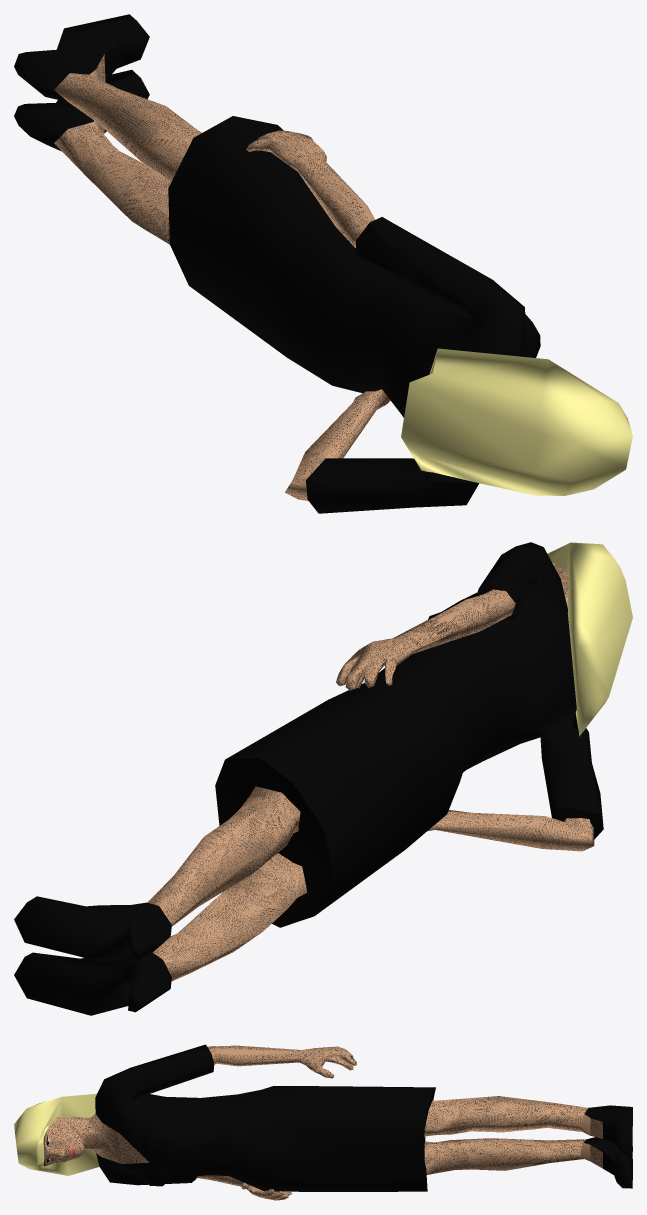
File: woman_2.dae
3 renders of one model, top to bottom at view 1: azimuth 30°, elevation 25°; view 2: azimuth 150°, elevation 25°; view 3: azimuth 270°, elevation 25°, orthographic. The views are drawn at different scales.
Visible parts, largest first — view 1: coords_ME_ID19_MA_Color_009, coords_ME_ID47_MA_Shape_12, coords_ME_ID61_MA_Shape_006, coords_ME_ID55_MA_Shape_006, coords_ME_ID107_MA_Color_009, coords_ME_ID13_MA_Shape_006, coords_ME_ID41_MA_Shape_006, coords_ME_ID87_MA_Color_009, coords_ME_ID61_MA_Color_009, coords_ME_ID55_MA_Color_009, coords_ME_ID185_MA_Color_009, coords_ME_ID13_MA_Color_009 (+3 smaller); view 2: coords_ME_ID19_MA_Color_009, coords_ME_ID47_MA_Shape_12, coords_ME_ID61_MA_Shape_006, coords_ME_ID55_MA_Shape_006, coords_ME_ID87_MA_Color_009, coords_ME_ID107_MA_Color_009, coords_ME_ID143_MA_Color_009, coords_ME_ID13_MA_Shape_006, coords_ME_ID41_MA_Shape_006, coords_ME_ID61_MA_Color_009, coords_ME_ID55_MA_Color_009, coords_ME_ID13_MA_Color_009 (+3 smaller); view 3: coords_ME_ID19_MA_Color_009, coords_ME_ID61_MA_Shape_006, coords_ME_ID55_MA_Shape_006, coords_ME_ID47_MA_Shape_12, coords_ME_ID3_MA_Shape_006, coords_ME_ID13_MA_Shape_006, coords_ME_ID61_MA_Color_009, coords_ME_ID55_MA_Color_009, coords_ME_ID107_MA_Color_009, coords_ME_ID87_MA_Color_009, coords_ME_ID3_MA_Color_009, coords_ME_ID41_MA_Shape_006 (+2 smaller).
Part boxes in pixels (x1,y1,x2,y2): coords_ME_ID19_MA_Color_009: (168, 116, 540, 513); coords_ME_ID47_MA_Shape_12: (401, 348, 632, 495); coords_ME_ID61_MA_Shape_006: (54, 73, 201, 180); coords_ME_ID55_MA_Shape_006: (54, 122, 171, 244); coords_ME_ID107_MA_Color_009: (14, 14, 149, 101); coords_ME_ID13_MA_Shape_006: (246, 130, 375, 247); coords_ME_ID41_MA_Shape_006: (285, 389, 390, 500); coords_ME_ID87_MA_Color_009: (14, 69, 149, 151); coords_ME_ID61_MA_Color_009: (55, 74, 199, 179); coords_ME_ID55_MA_Color_009: (56, 124, 171, 240); coords_ME_ID185_MA_Color_009: (356, 222, 420, 282); coords_ME_ID13_MA_Color_009: (248, 131, 371, 245); coords_ME_ID19_MA_Color_009: (225, 542, 600, 915); coords_ME_ID47_MA_Shape_12: (547, 542, 632, 736); coords_ME_ID61_MA_Shape_006: (147, 786, 300, 926); coords_ME_ID55_MA_Shape_006: (153, 853, 306, 981); coords_ME_ID87_MA_Color_009: (14, 952, 171, 1015); coords_ME_ID107_MA_Color_009: (14, 896, 171, 961); coords_ME_ID143_MA_Color_009: (215, 757, 334, 927); coords_ME_ID13_MA_Shape_006: (336, 589, 515, 690); coords_ME_ID41_MA_Shape_006: (427, 810, 594, 851); coords_ME_ID61_MA_Color_009: (151, 787, 298, 925); coords_ME_ID55_MA_Color_009: (153, 853, 306, 980); coords_ME_ID13_MA_Color_009: (336, 590, 514, 688); coords_ME_ID19_MA_Color_009: (95, 1044, 435, 1191); coords_ME_ID61_MA_Shape_006: (424, 1096, 588, 1136); coords_ME_ID55_MA_Shape_006: (424, 1138, 586, 1174); coords_ME_ID47_MA_Shape_12: (14, 1093, 99, 1175); coords_ME_ID3_MA_Shape_006: (44, 1114, 149, 1165); coords_ME_ID13_MA_Shape_006: (208, 1045, 356, 1078); coords_ME_ID61_MA_Color_009: (425, 1096, 586, 1135); coords_ME_ID55_MA_Color_009: (424, 1138, 585, 1174); coords_ME_ID107_MA_Color_009: (584, 1105, 632, 1156); coords_ME_ID87_MA_Color_009: (583, 1137, 632, 1188); coords_ME_ID3_MA_Color_009: (44, 1117, 142, 1164); coords_ME_ID41_MA_Shape_006: (197, 1175, 291, 1200).
Bounding box in the file's own units: 4.65 × 5.28 × 18.93.
